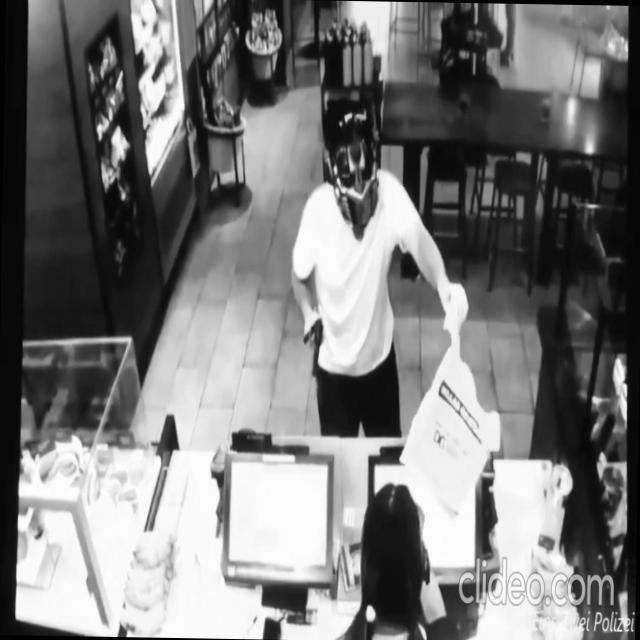gun: (308, 311, 324, 379)
person: (320, 475, 473, 640)
person with a gun: (286, 90, 474, 437)
